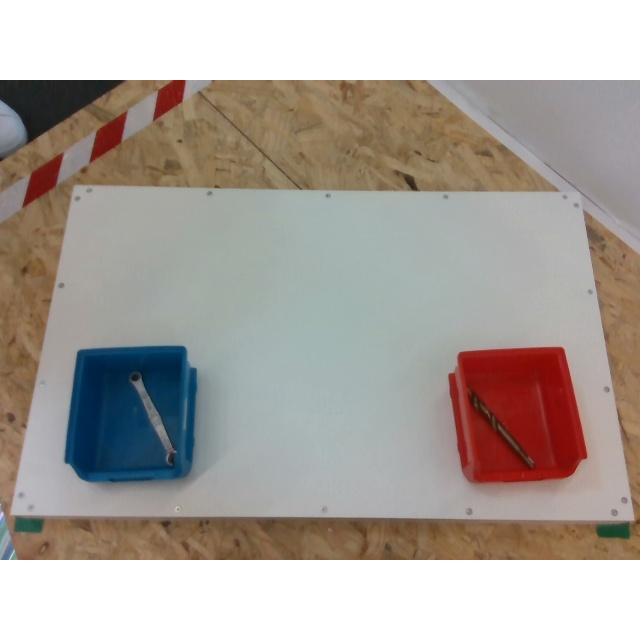Drill: (468, 386, 536, 469)
Wrench: (128, 372, 176, 464)
container_box_blue: (66, 344, 198, 480)
container_box_red: (450, 346, 588, 486)
